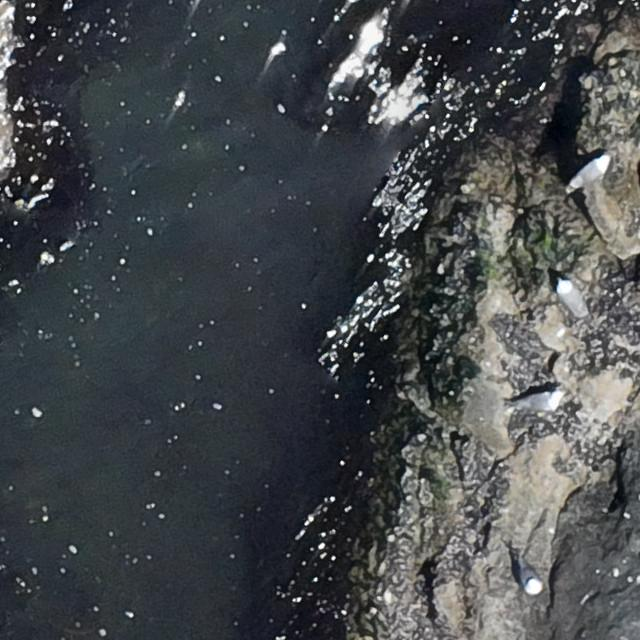umineko: (510, 389, 562, 412), (572, 157, 608, 186), (559, 280, 582, 310), (518, 564, 538, 592)
